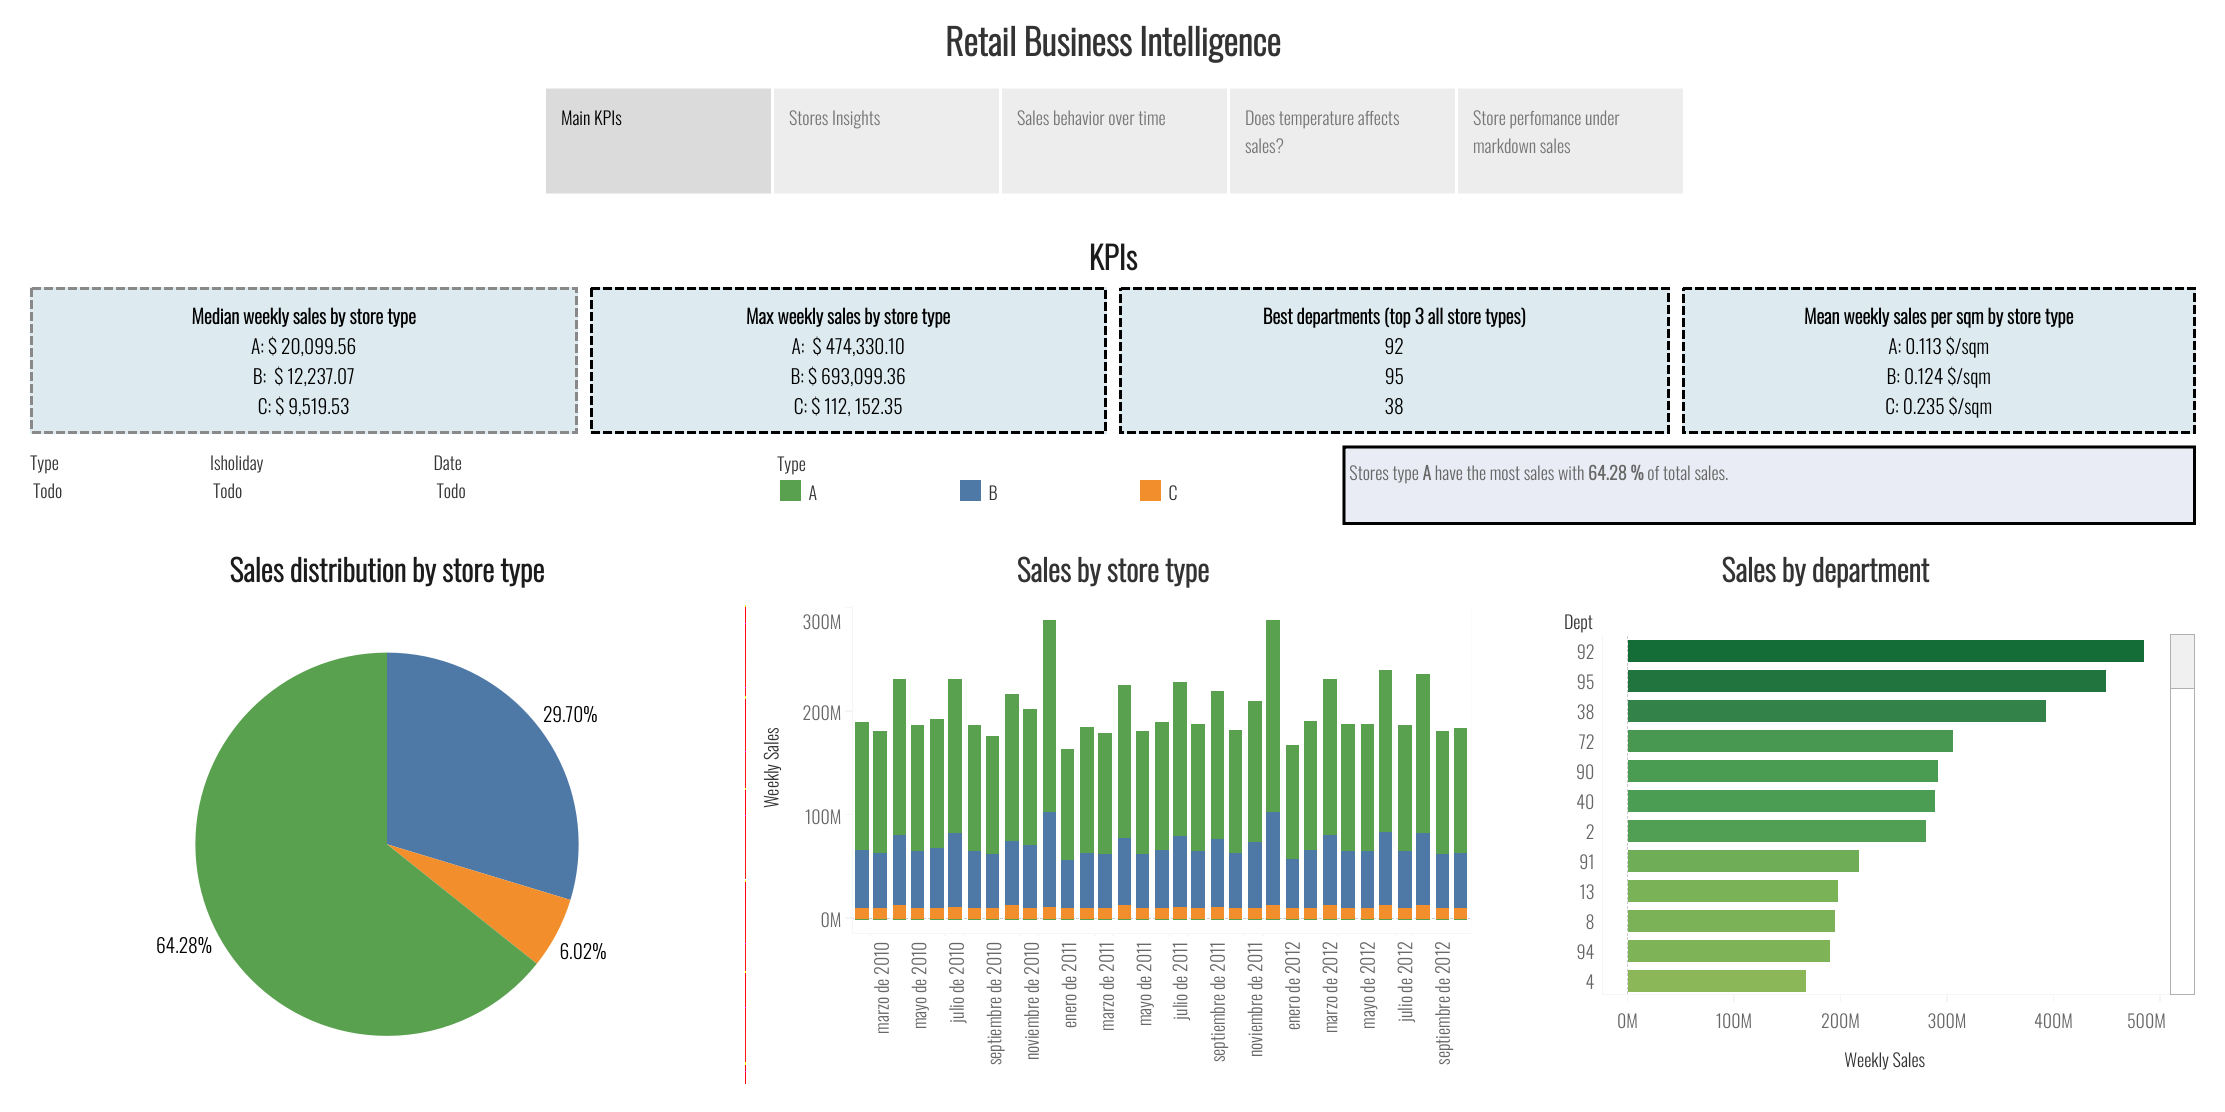

This screenshot's page, from the dashboard's own definition file:
{"tool":"tableau","page":{"name":"Dashboard 1","canvas":[1000,1000],"units":"permille","ordinal":0},"visuals":[{"type":"text","box":[5.4,10.8,989.2,58.8]},{"type":"text","box":[5.4,69.5,254.2,179.7]},{"type":"text","box":[259.6,69.5,240.4,179.7]},{"type":"text","box":[500,69.5,255.4,179.7]},{"type":"text","box":[755.4,69.5,239.2,179.7]},{"type":"filter","title":"Sales by dept","param":"[federated.09c82i20zi96wa15g1bcy1swq6py].[none:type:nk]","box":[5.4,249.2,82.1,105.1]},{"type":"filter","title":"Sales by type","param":"[federated.09c82i20zi96wa15g1bcy1swq6py].[none:isholiday:nk]","box":[87.5,249.2,101.1,105.1]},{"type":"filter","title":"Sales by type pie","param":"[federated.09c82i20zi96wa15g1bcy1swq6py].[Action (MONTH(Date),Type)]","box":[188.6,249.2,155.7,105.1]},{"type":"legend","title":"Sales by type","param":"[federated.09c82i20zi96wa15g1bcy1swq6py].[none:type:nk]","box":[344.3,249.2,257.4,105.1]},{"type":"text","box":[601.7,249.2,392.9,105.1]},{"type":"worksheet","title":"Sales by type pie","mark":"Pie","box":[5.4,354.3,329.7,634.9]},{"type":"worksheet","title":"Sales by type","mark":"Bar","rows":["weekly_sales"],"cols":["date"],"box":[335.1,354.3,329.7,634.9]},{"type":"worksheet","title":"Sales by dept","mark":"Bar","rows":["dept"],"cols":["weekly_sales"],"box":[664.8,354.3,329.8,634.9]}]}

Visuals, with their boxes on the dashboard's canvas, which has no fixed pixel size, in thousandths of its width and height (x1, y1, x2, y2). These are canvas units, not pixel positions in the 2225x1112 screenshot, which may show the page scaled, cropped or inside an application window:
text: 5:11:995:70
text: 5:70:260:249
text: 260:70:500:249
text: 500:70:755:249
text: 755:70:995:249
"Sales by dept" filter: 5:249:88:354
"Sales by type" filter: 88:249:189:354
"Sales by type pie" filter: 189:249:344:354
"Sales by type" legend: 344:249:602:354
text: 602:249:995:354
"Sales by type pie" worksheet (Pie marks): 5:354:335:989
"Sales by type" worksheet (Bar marks): 335:354:665:989
"Sales by dept" worksheet (Bar marks): 665:354:995:989
